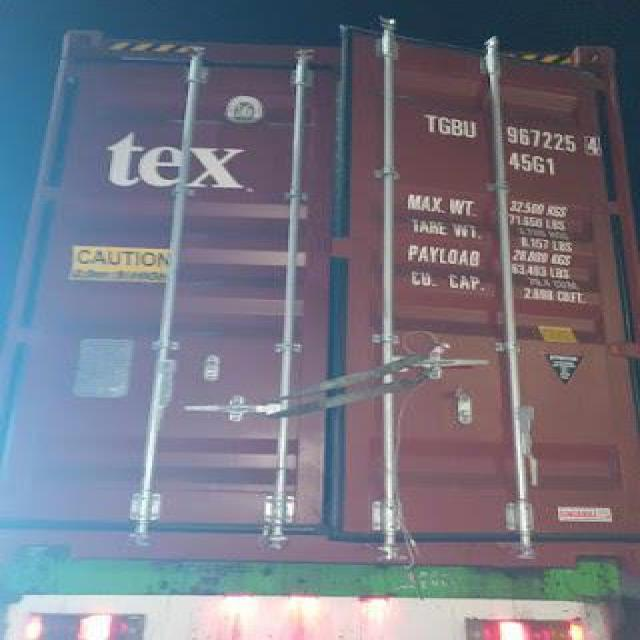ISO: (510, 152, 560, 176)
container_number: (419, 110, 598, 153)
